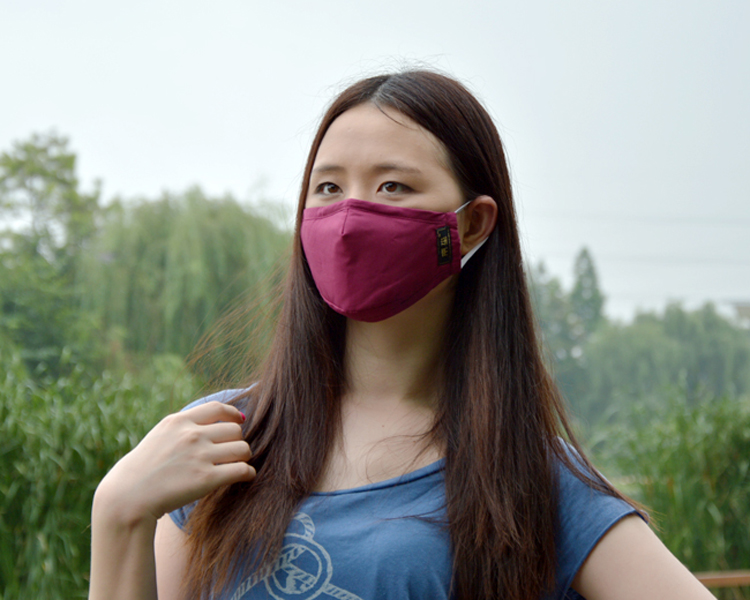face_mask: (305, 104, 462, 321)
